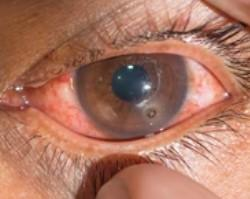eye: (76, 52, 189, 136)
